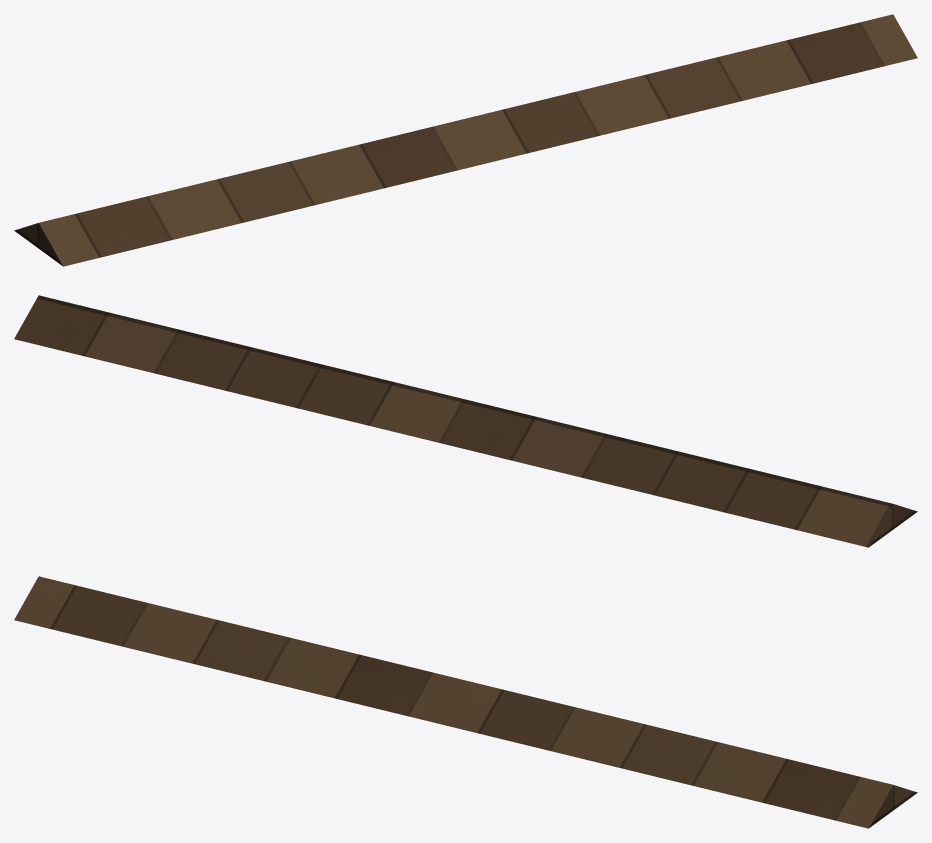
Rendered from ridge_cap_straight_4m.glb.
3 views of the same model, one above another, from view 1: azimuth 30°, elevation 25°; view 2: azimuth 150°, elevation 25°; view 3: azimuth 330°, elevation 25° (orthographic).
Parts seen in each view (by area): view 1: ridge_cap_straight_4m; view 2: ridge_cap_straight_4m; view 3: ridge_cap_straight_4m.
Part boxes in pixels (left/top/right/bottom): ridge_cap_straight_4m: left=14, top=14, right=917, bottom=266; ridge_cap_straight_4m: left=14, top=295, right=917, bottom=547; ridge_cap_straight_4m: left=14, top=576, right=917, bottom=828.
Bounding box in the file's own units: 4 × 0.1155 × 0.4.
Materials: 1 (1 with a texture image).
